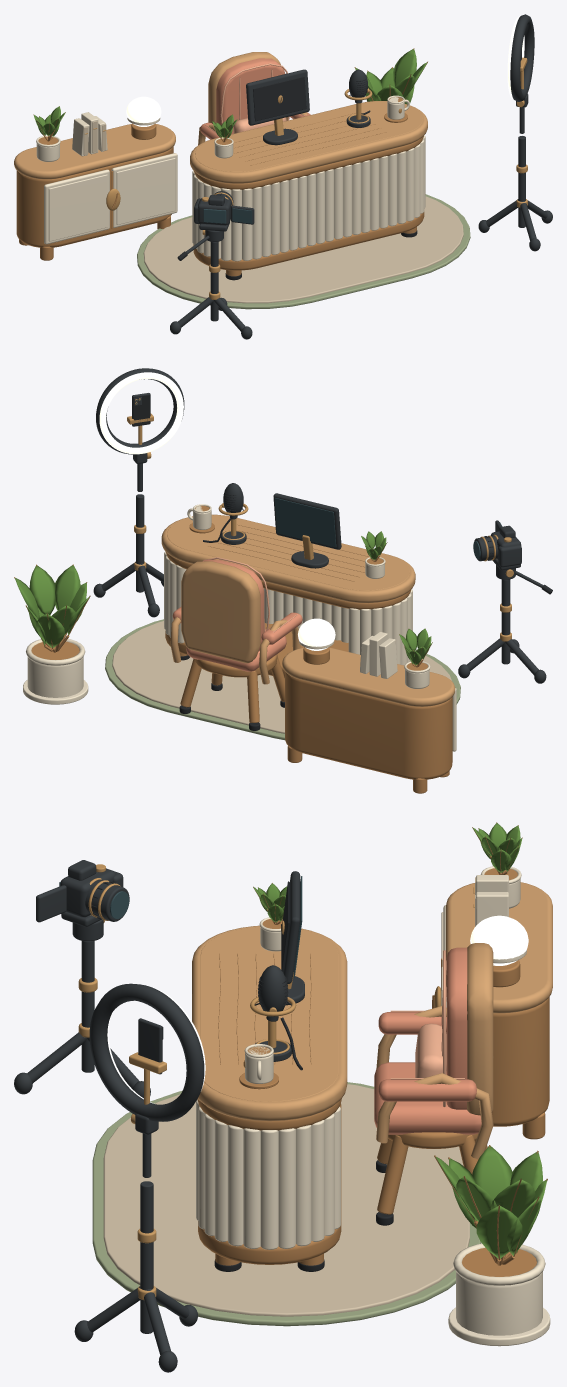
Rendered from showroom-set.glb.
3 renders of one model, top to bottom at view 1: azimuth 30°, elevation 25°; view 2: azimuth 150°, elevation 25°; view 3: azimuth 270°, elevation 25°, orthographic. The views are drawn at different scales.
Parts seen in each view (by area): view 1: host_desk_mesh, host_rug_mesh, host_storage_mesh, host_chair_mesh, host_ring_light_mesh, host_camera_tripod_mesh, host_monitor_mesh, host_floor_plant_mesh, host_storage_books_mesh, host_storage_lamp_mesh, host_storage_plant_mesh, host_desktop_microphone_mesh (+2 smaller); view 2: host_desk_mesh, host_storage_mesh, host_chair_mesh, host_rug_mesh, host_floor_plant_mesh, host_ring_light_mesh, host_camera_tripod_mesh, host_monitor_mesh, host_storage_books_mesh, host_storage_plant_mesh, host_storage_lamp_mesh, host_desktop_microphone_mesh (+2 smaller); view 3: host_rug_mesh, host_desk_mesh, host_chair_mesh, host_floor_plant_mesh, host_ring_light_mesh, host_storage_mesh, host_camera_tripod_mesh, host_storage_lamp_mesh, host_desktop_microphone_mesh, host_monitor_mesh, host_storage_plant_mesh, host_storage_books_mesh (+2 smaller).
Part boxes in pixels (x1,y1,x2,y2): host_desk_mesh: [190, 101, 427, 280]; host_rug_mesh: [137, 194, 470, 309]; host_storage_mesh: [14, 124, 177, 260]; host_chair_mesh: [198, 52, 310, 145]; host_ring_light_mesh: [478, 14, 552, 251]; host_camera_tripod_mesh: [170, 191, 254, 339]; host_monitor_mesh: [246, 69, 309, 145]; host_floor_plant_mesh: [354, 48, 427, 104]; host_storage_books_mesh: [72, 112, 107, 156]; host_storage_lamp_mesh: [126, 96, 161, 139]; host_storage_plant_mesh: [33, 106, 65, 161]; host_desktop_microphone_mesh: [344, 69, 372, 127]; host_desk_mesh: [161, 514, 415, 677]; host_storage_mesh: [282, 647, 456, 793]; host_chair_mesh: [170, 557, 302, 730]; host_rug_mesh: [105, 619, 460, 740]; host_floor_plant_mesh: [14, 564, 90, 704]; host_ring_light_mesh: [93, 368, 184, 617]; host_camera_tripod_mesh: [458, 520, 552, 683]; host_monitor_mesh: [273, 493, 341, 568]; host_storage_books_mesh: [360, 631, 397, 678]; host_storage_plant_mesh: [399, 628, 432, 688]; host_storage_lamp_mesh: [298, 618, 335, 664]; host_desktop_microphone_mesh: [203, 483, 248, 544]; host_rug_mesh: [92, 1082, 481, 1326]; host_desk_mesh: [192, 925, 347, 1271]; host_chair_mesh: [374, 943, 493, 1225]; host_floor_plant_mesh: [434, 1145, 550, 1346]; host_ring_light_mesh: [74, 983, 205, 1372]; host_storage_mesh: [432, 882, 552, 1139]; host_camera_tripod_mesh: [14, 860, 150, 1098]; host_storage_lamp_mesh: [470, 915, 528, 987]; host_desktop_microphone_mesh: [250, 965, 302, 1070]; host_monitor_mesh: [281, 871, 304, 1005]; host_storage_plant_mesh: [472, 822, 522, 908]; host_storage_books_mesh: [473, 875, 508, 926].
Size of the model in its own units: 4.8 by 2.3 by 3.12.
